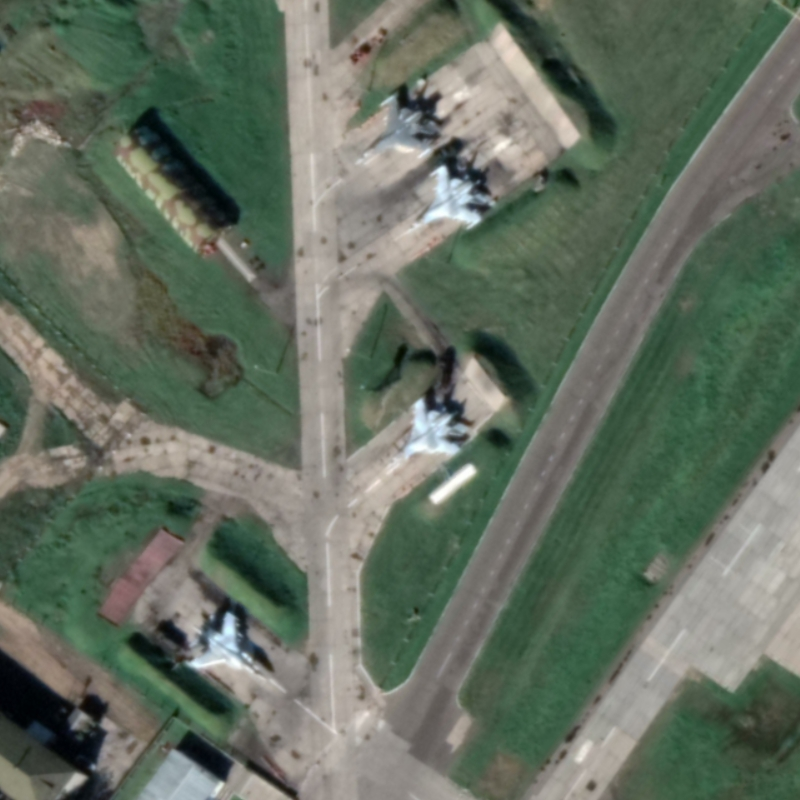A1: (179, 610, 274, 682), (355, 89, 437, 165), (388, 394, 467, 467), (410, 162, 485, 234)
